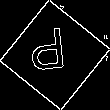P_S: (34, 28, 76, 82)
